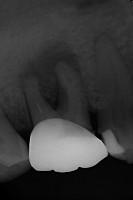Dental Caries: (16, 35, 82, 112)
Furcation Involvement: (93, 30, 107, 49)
